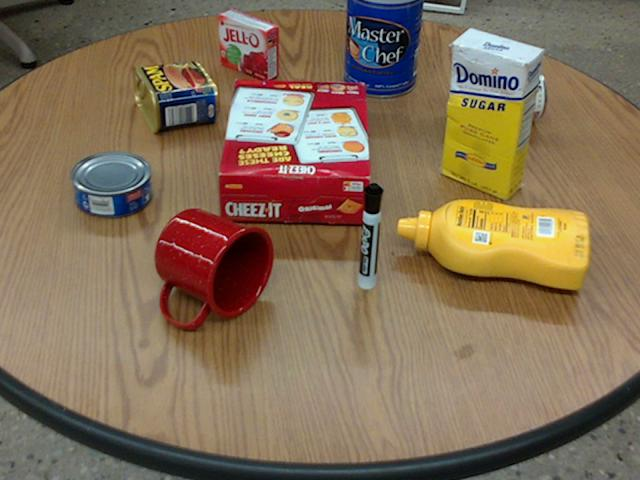cracker_box: (217, 80, 370, 224)
gelatin_box: (218, 8, 278, 79)
large_marker: (357, 182, 381, 289)
master_chef_can: (344, 0, 423, 96)
mug: (152, 209, 271, 326)
mustard_bottle: (397, 199, 588, 289)
potted_meat_can: (132, 61, 217, 131)
sugar_box: (442, 28, 542, 200)
tomato_soup_can: (452, 67, 545, 125)
tuna_fish_can: (70, 151, 150, 216)
